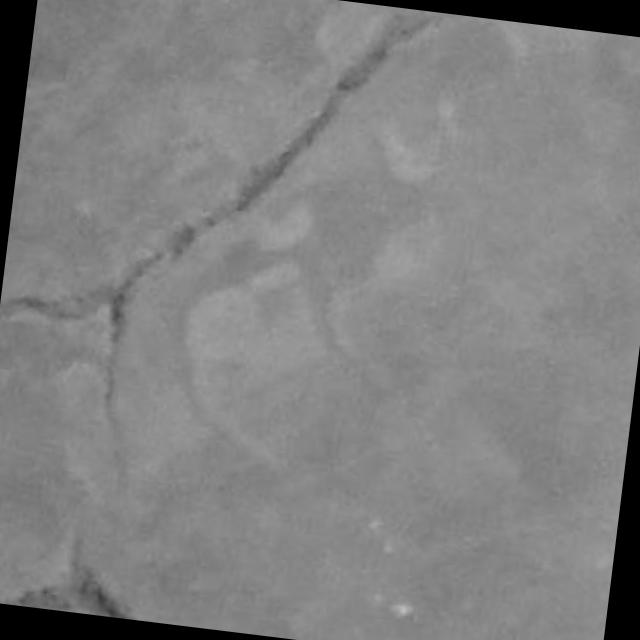crack: (0, 13, 443, 482), (0, 13, 441, 341), (0, 284, 114, 320)
